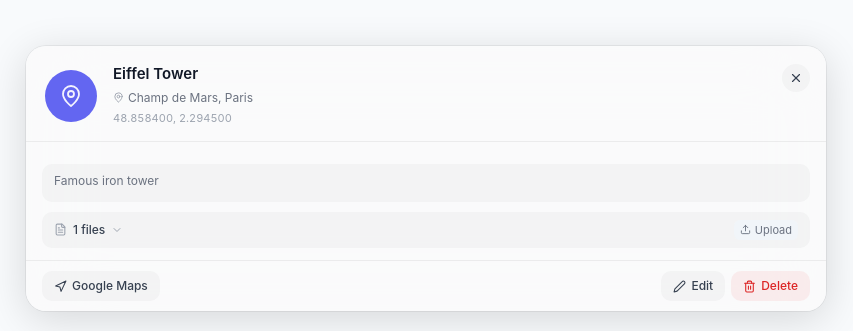
Test: PlaceInspector › FE-PLANNER-INSPECTOR-034: file size displayed in KB for files < 1MB
Click the button "1 files" at (89, 229), box [54,221,728,239]
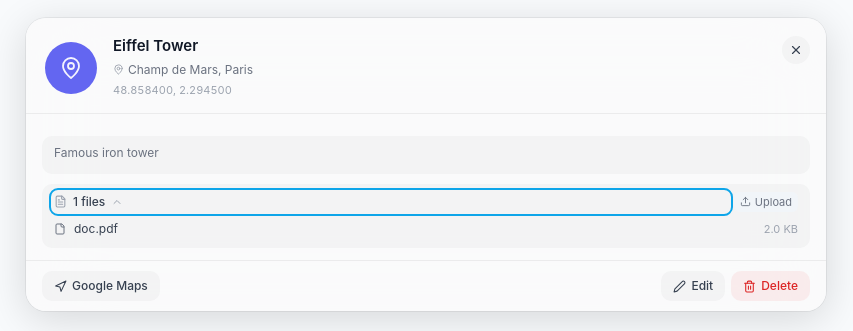
Expected: the text "2.0 KB" is shown, [764,221,798,237]
